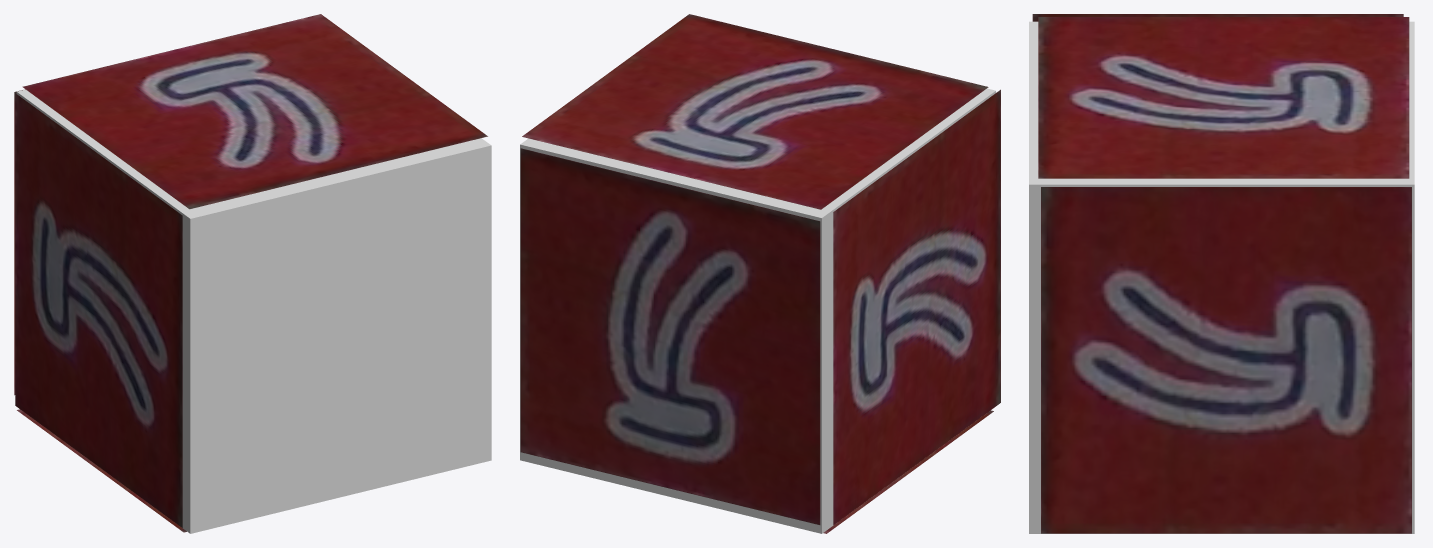
The picture shows the model from 3 angles, left to right: view 1: azimuth 30°, elevation 25°; view 2: azimuth 150°, elevation 25°; view 3: azimuth 270°, elevation 25°; orthographic projection. The views are drawn at different scales.
Parts seen in each view (by area): view 1: Link28, R1.002, R1.004, R1.005, R1.001; view 2: R1.001, R1.002, R1.004, Link28, R1.005; view 3: R1.003, R1.004, Link28, R1.002.
Part boxes in pixels (x1,y1,x2,y2): Link28: (16,89,491,533); R1.002: (15,93,182,527); R1.004: (22,14,487,209); R1.005: (17,409,186,532); R1.001: (14,89,25,395); R1.001: (520,148,820,524); R1.002: (833,89,1000,524); R1.004: (522,14,988,209); Link28: (520,88,995,533); R1.005: (823,410,993,533); R1.003: (1041,187,1411,533); R1.004: (1038,17,1409,178); Link28: (1029,21,1414,533); R1.002: (1032,14,1403,21).
Size of the model in its own units: 0.3585 by 0.3539 by 0.3577.
1 material, 1 textured.
